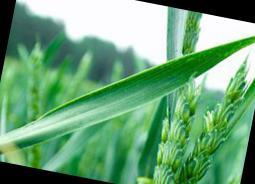Wheat: (17, 91, 112, 147)
